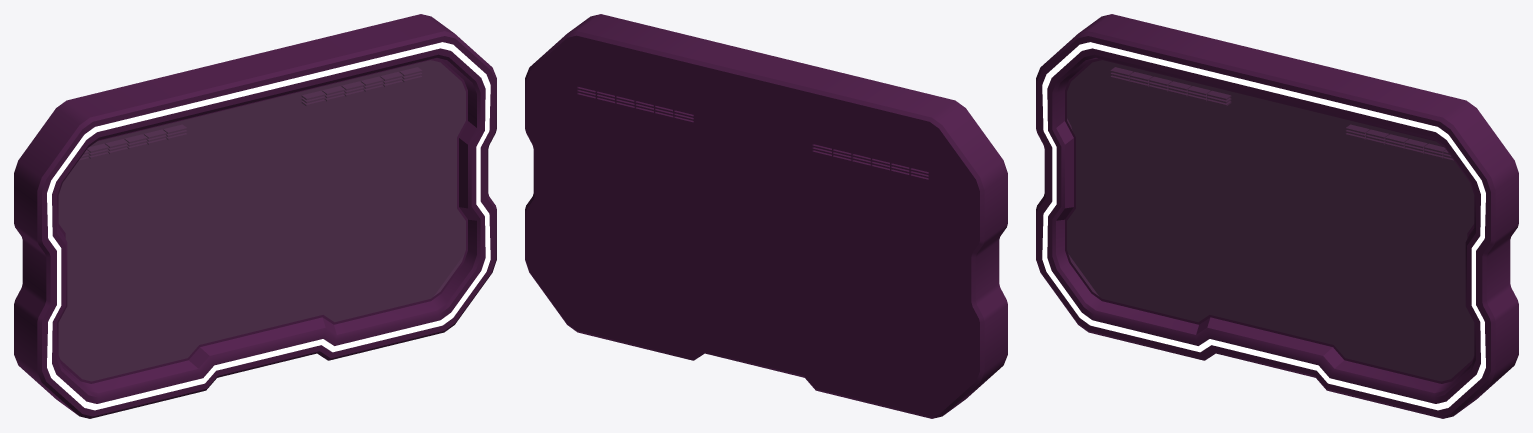
The model's file is tablet.gltf.
3 views of the same model, side by side, from view 1: azimuth 30°, elevation 25°; view 2: azimuth 150°, elevation 25°; view 3: azimuth 330°, elevation 25° (orthographic).
Parts seen in each view (by area): view 1: Tablet; view 2: Tablet; view 3: Tablet.
Boxes of the visible parts, x1,y1,x2,y2 form: Tablet: (14,14,496,418); Tablet: (525,14,1007,418); Tablet: (1036,14,1518,418).
Size of the model in its own units: 4.07 by 2.55 by 0.4091.
